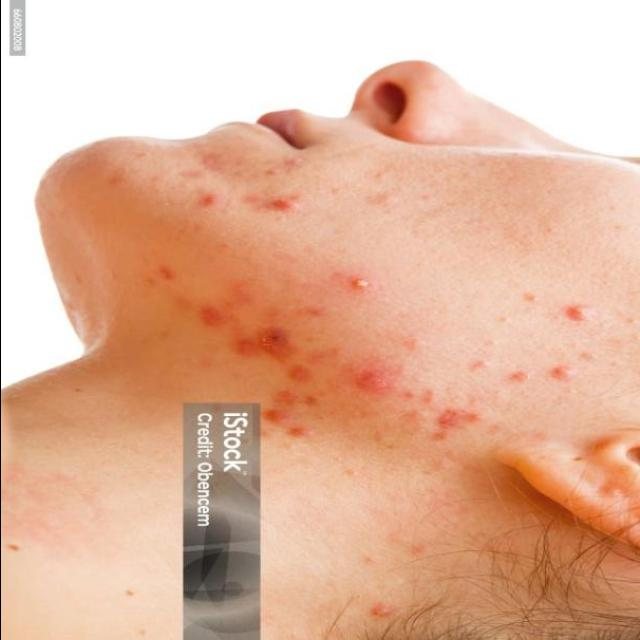nodule: (257, 316, 306, 367)
papule: (422, 403, 494, 444), (553, 287, 604, 331), (396, 377, 442, 425), (533, 354, 586, 395), (256, 391, 297, 434), (226, 263, 254, 320), (221, 330, 270, 358), (278, 362, 322, 393), (353, 367, 394, 400), (169, 159, 209, 191), (181, 303, 234, 327), (492, 359, 530, 392), (293, 300, 333, 329), (361, 185, 402, 211), (187, 184, 222, 214), (147, 260, 180, 291), (396, 535, 430, 563), (267, 191, 296, 221), (464, 351, 491, 383), (283, 424, 322, 443), (367, 600, 397, 622), (399, 335, 421, 362), (280, 153, 304, 174), (302, 396, 324, 415), (260, 158, 278, 178)
pustule: (328, 271, 378, 298)
